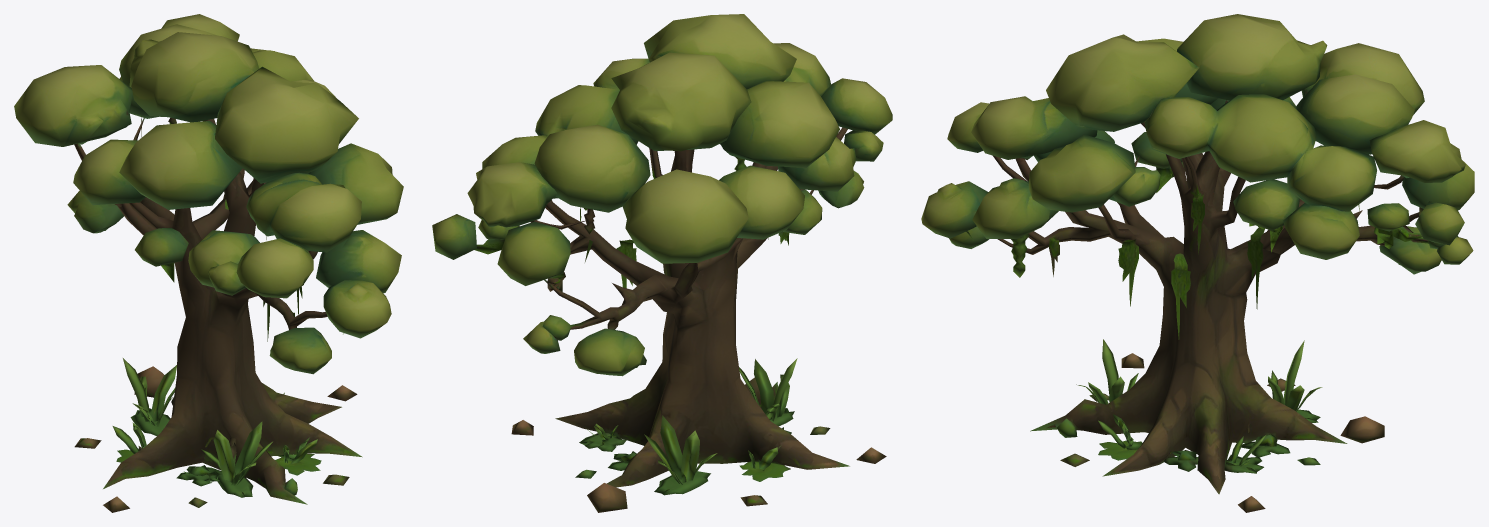
The model's file is SM_Vegetation_LowPolyTree_01.fbx.
3 views of the same model, side by side, from view 1: azimuth 30°, elevation 25°; view 2: azimuth 150°, elevation 25°; view 3: azimuth 270°, elevation 25° (orthographic). The views are drawn at different scales.
Visible parts, largest first — view 1: SM_Vegetation_LowPolyTree_01; view 2: SM_Vegetation_LowPolyTree_01; view 3: SM_Vegetation_LowPolyTree_01.
Boxes of the visible parts, x1,y1,x2,y2 form: SM_Vegetation_LowPolyTree_01: (14, 14, 403, 512); SM_Vegetation_LowPolyTree_01: (432, 14, 892, 512); SM_Vegetation_LowPolyTree_01: (921, 14, 1474, 512).
Bounding box in the file's own units: 0.6582 × 0.8184 × 0.998.
Materials: 1 (1 with a texture image).
